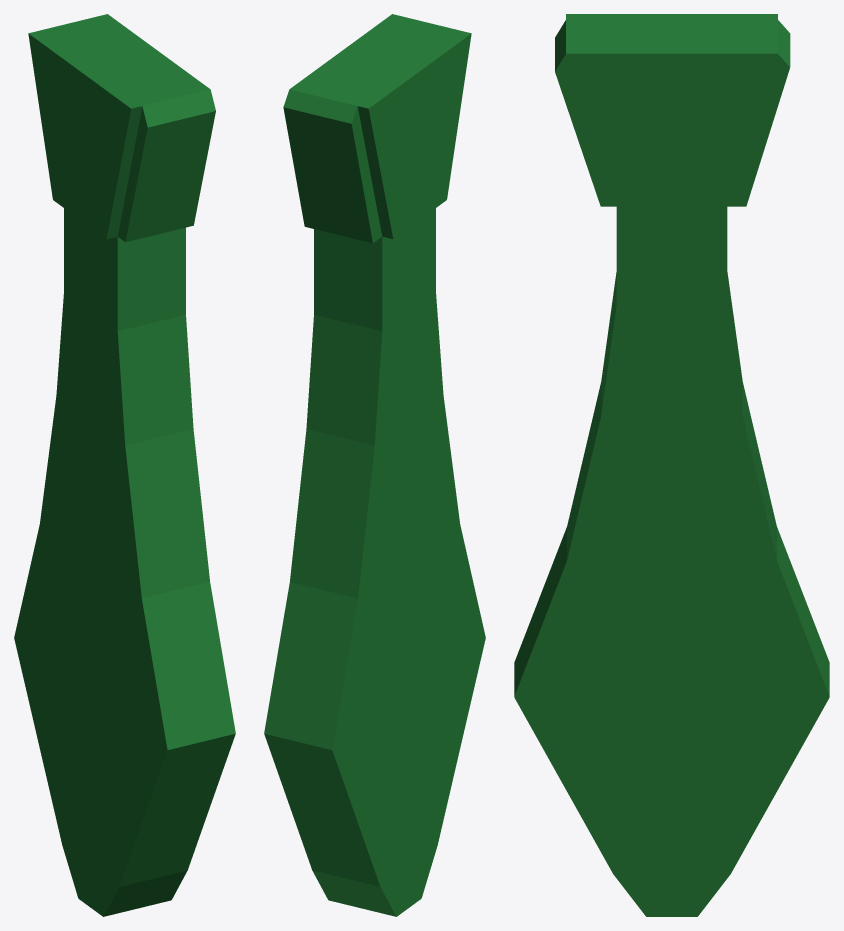
File: tie.fbx
The picture shows the model from 3 angles, left to right: view 1: azimuth 30°, elevation 25°; view 2: azimuth 150°, elevation 25°; view 3: azimuth 270°, elevation 25°; orthographic projection. The views are drawn at different scales.
Parts seen in each view (by area): view 1: pCube2; view 2: pCube2; view 3: pCube2.
Part boxes in pixels (x1,y1,x2,y2): pCube2: [14, 14, 235, 916]; pCube2: [264, 14, 485, 916]; pCube2: [514, 14, 829, 916].
Bounding box in the file's own units: 0.2642 × 2.67 × 0.8853.
